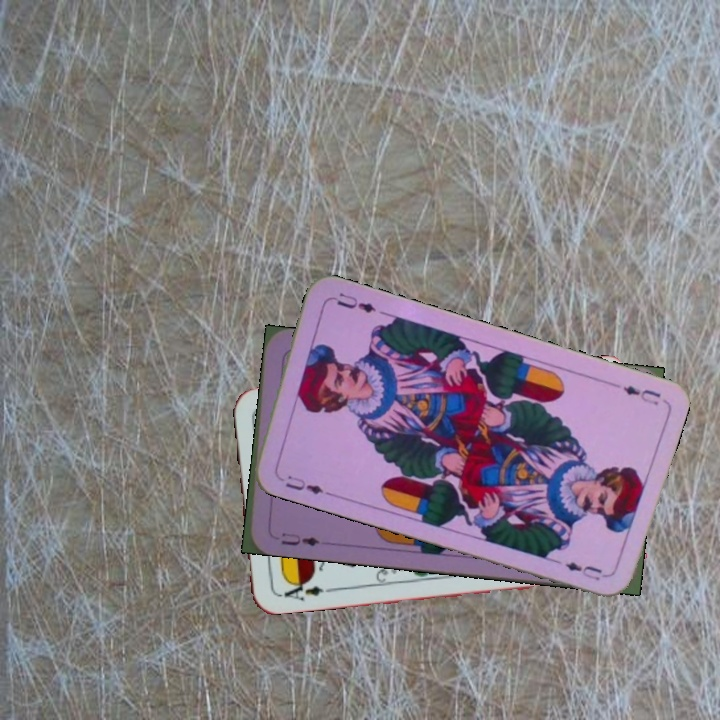EA: (275, 576, 326, 604)
EU: (281, 471, 326, 498), (619, 381, 663, 408), (277, 528, 322, 549)
